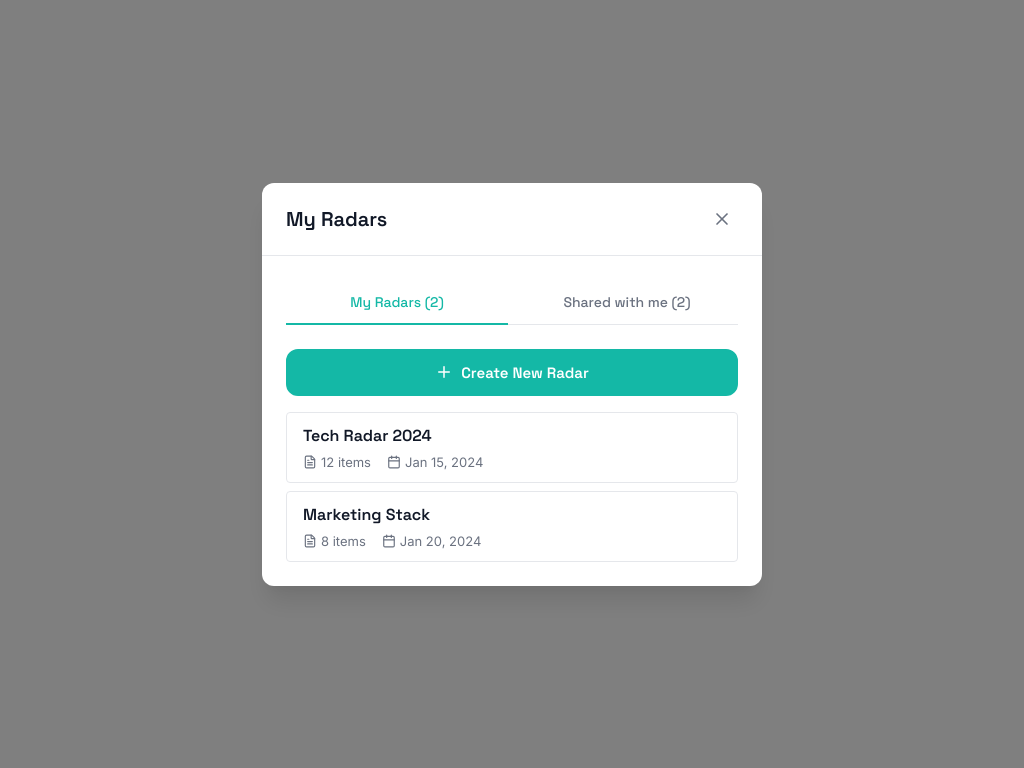
Test: RadarSwitcherModal › Tabs Feature › should switch to shared radars tab when clicked
Expected: the heading "Tech Radar 2024" is shown, left=303, top=424, right=432, bottom=446
# Click on Shared with me tab
Click the button "Shared with me (2)" at (627, 302), box left=516, top=280, right=738, bottom=324
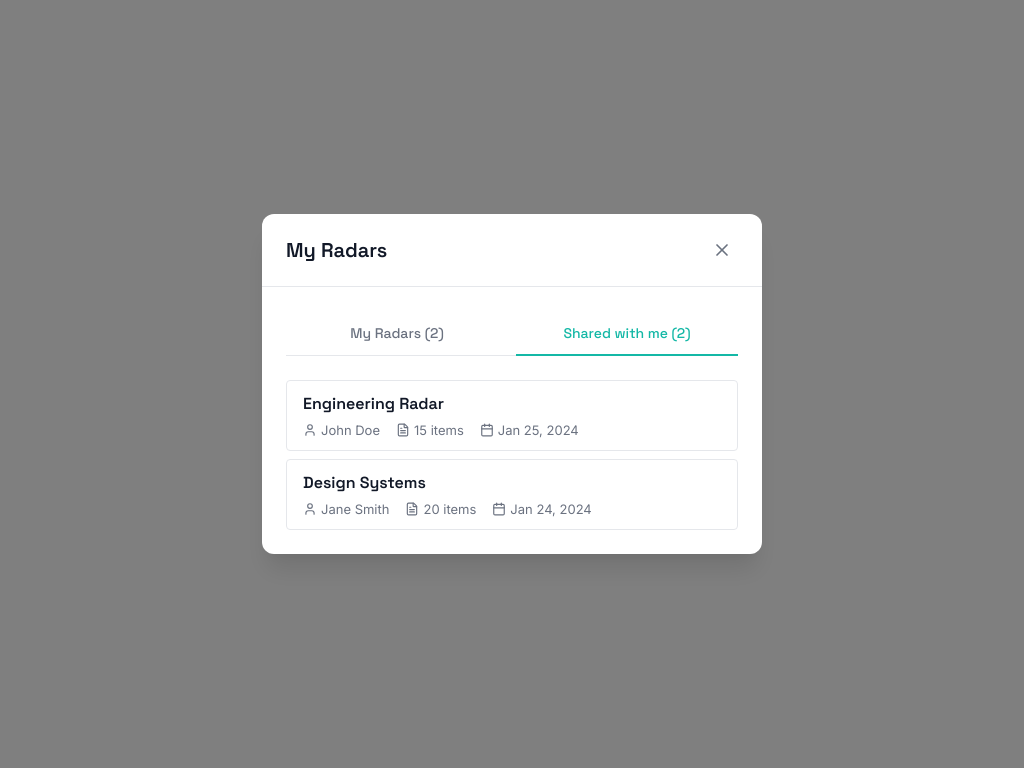
Expected: the heading "Engineering Radar" is shown, left=303, top=393, right=444, bottom=414
Expected: the heading "Design Systems" is shown, left=303, top=472, right=426, bottom=493
Expected: the button "Tech Radar 2024" is gone
